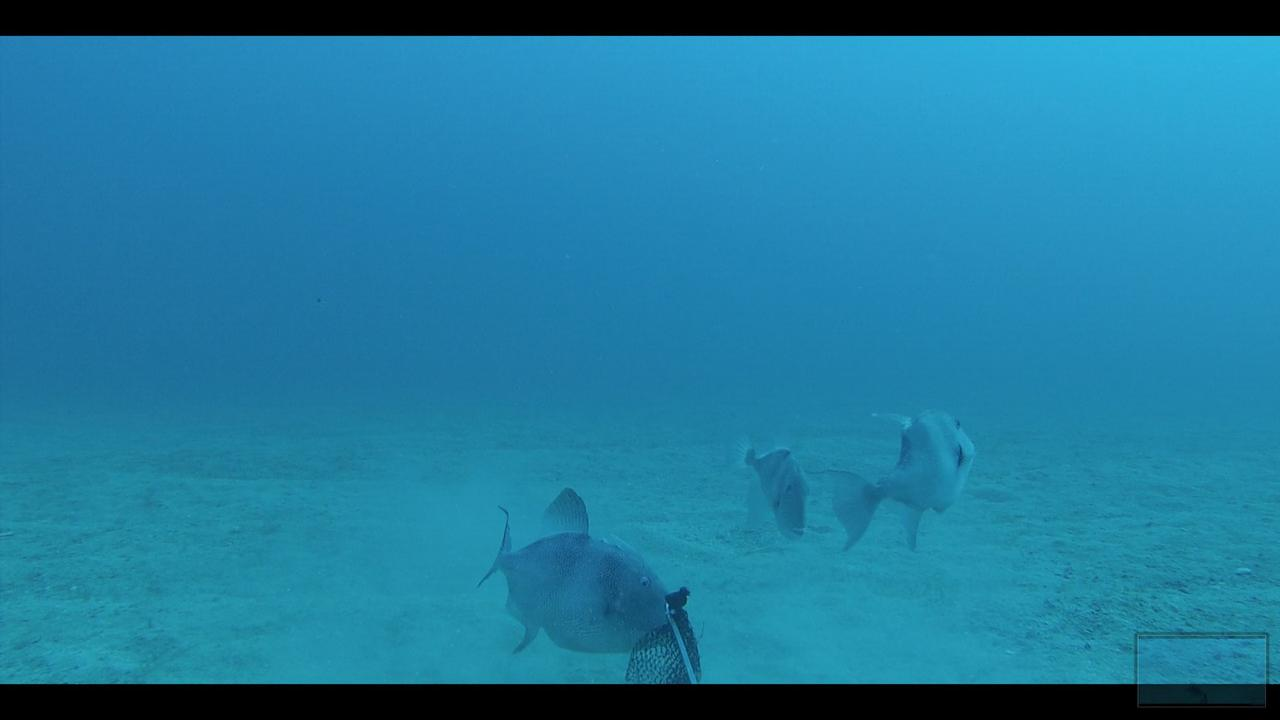balistes: (476, 482, 681, 655), (797, 402, 975, 556), (716, 414, 811, 537)
